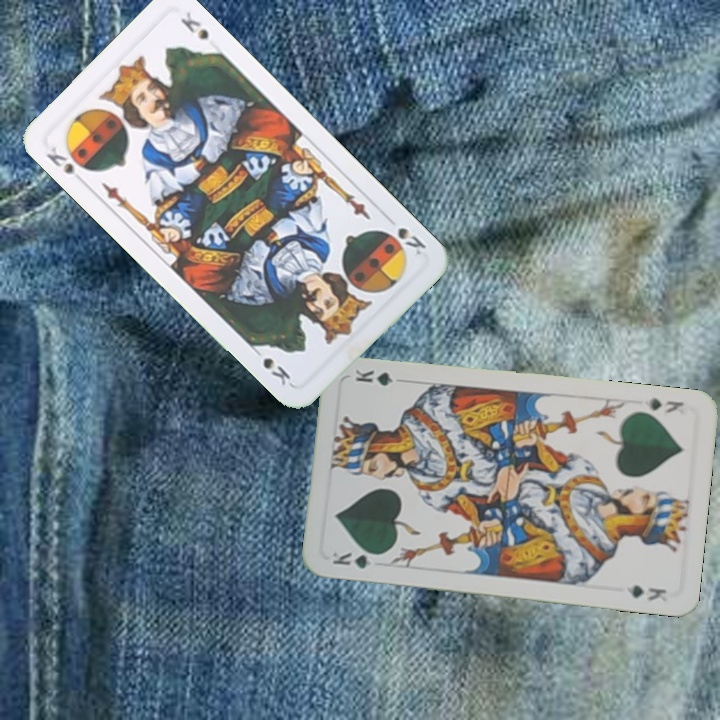GK: (328, 548, 386, 572), (645, 394, 687, 416)
SK: (42, 142, 89, 188), (393, 223, 429, 258)
